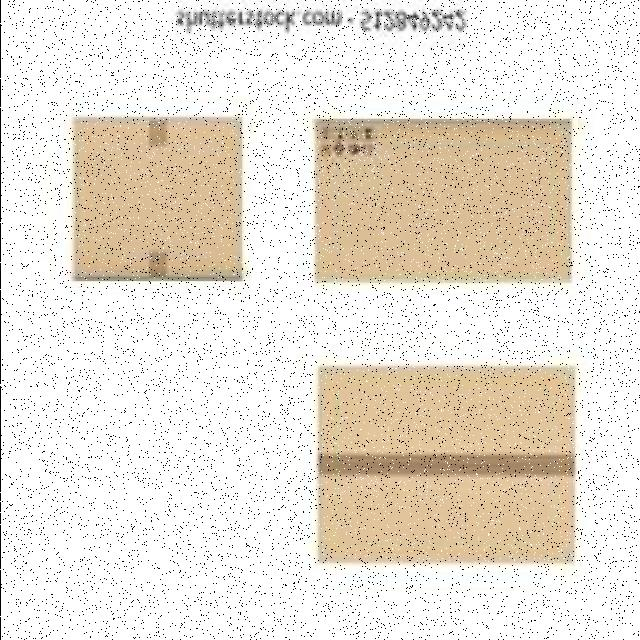normal: (308, 363, 580, 569), (311, 118, 577, 291), (66, 112, 249, 288)
